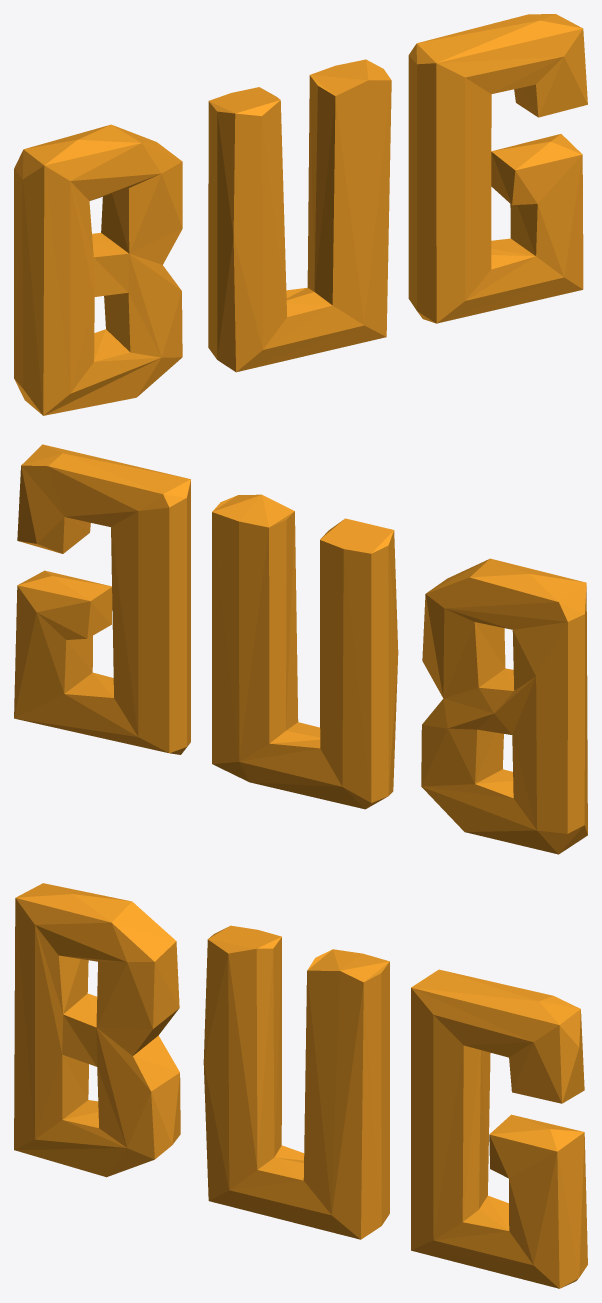
File: SM_Icon_Text_Bug_01.fbx
3 renders of one model, top to bottom at view 1: azimuth 30°, elevation 25°; view 2: azimuth 150°, elevation 25°; view 3: azimuth 330°, elevation 25°, orthographic.
Visible parts, largest first — view 1: SM_Icon_Text_Bug_01; view 2: SM_Icon_Text_Bug_01; view 3: SM_Icon_Text_Bug_01.
Boxes of the visible parts, x1,y1,x2,y2 form: SM_Icon_Text_Bug_01: (14,14,587,415); SM_Icon_Text_Bug_01: (14,444,587,854); SM_Icon_Text_Bug_01: (14,883,587,1288).
Bounding box in the file's own units: 67.01 × 31.34 × 6.28.
